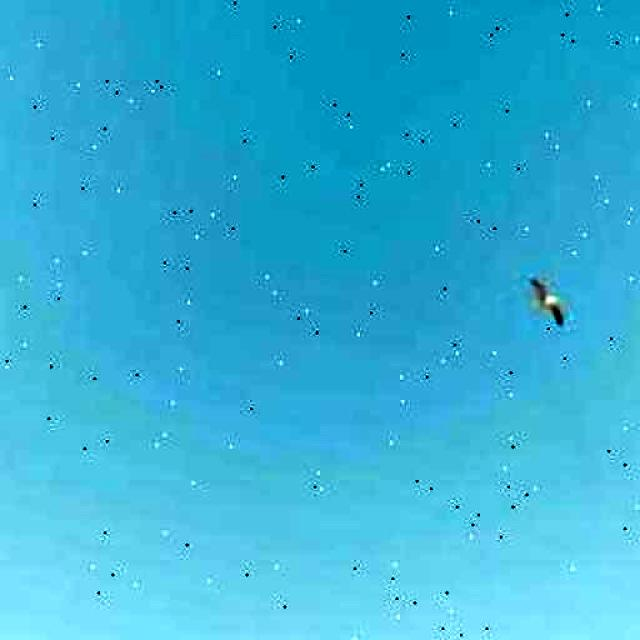airplane: (519, 272, 572, 329)
